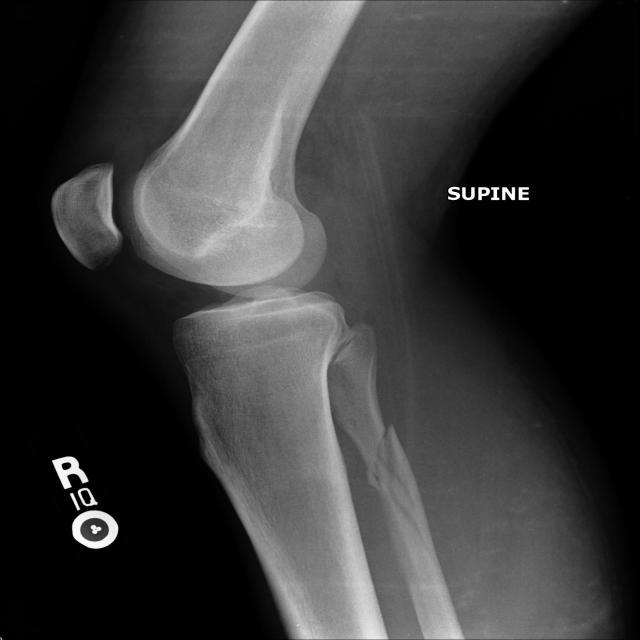Spiral: (327, 393, 440, 541)
